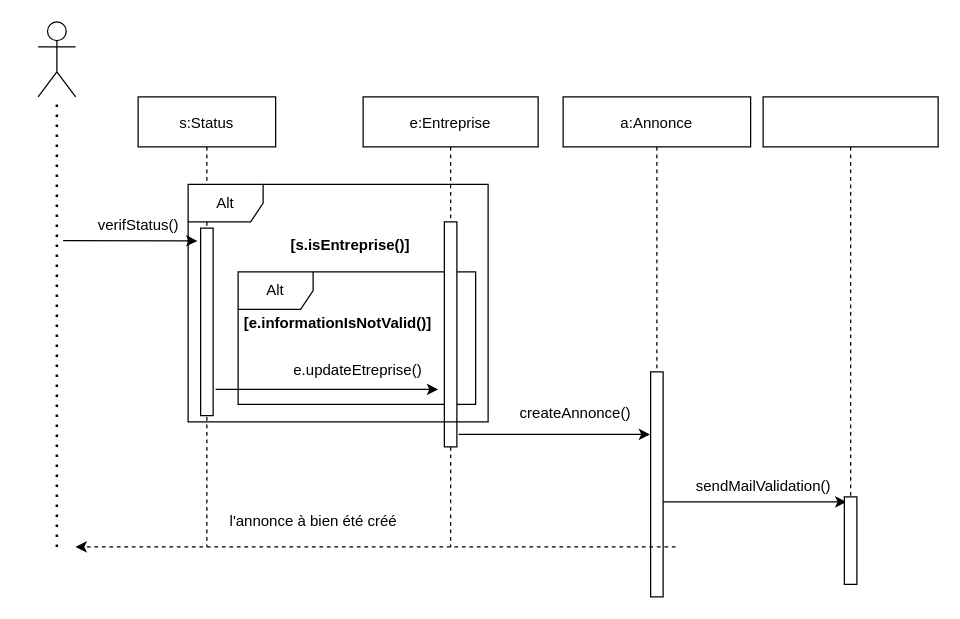
This 960x619 diagram has some shape labels left out. Here are the shapes that lost their labels. From the top down, the box of each, then its label:
(37, 21, 76, 97): Employeur
(762, 96, 938, 547): m:Message
